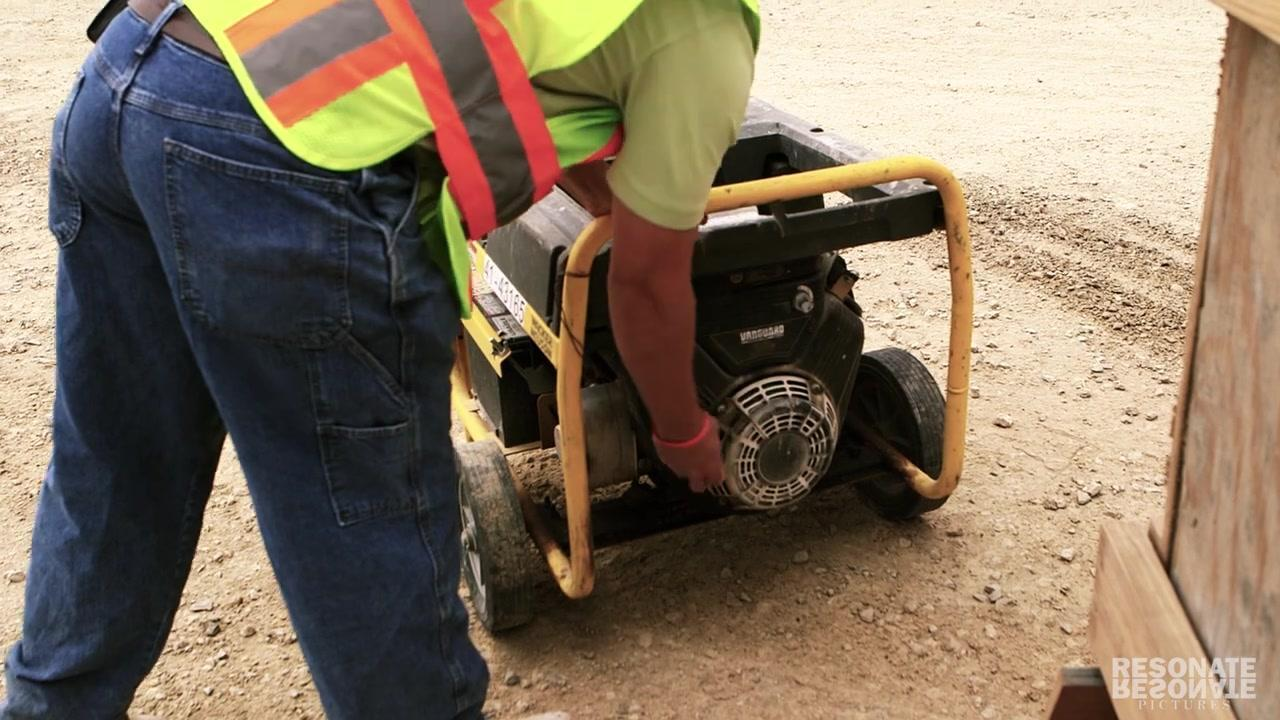Glass: (99, 0, 778, 204)
